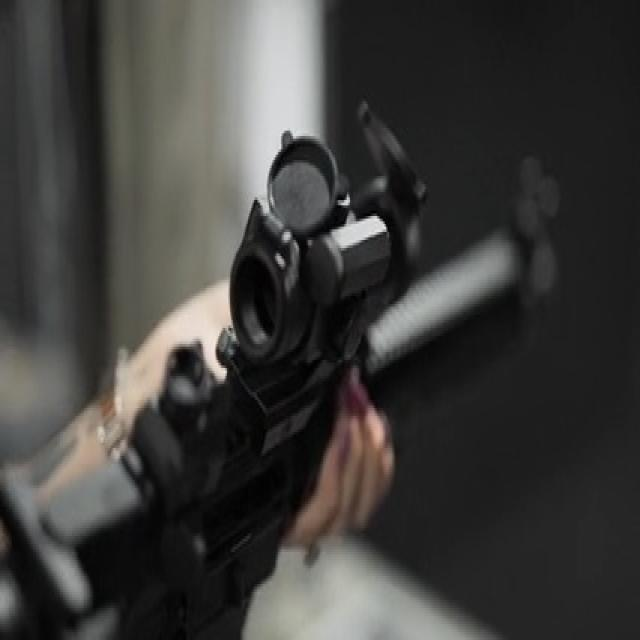Gun_Holder: (28, 55, 575, 631)
